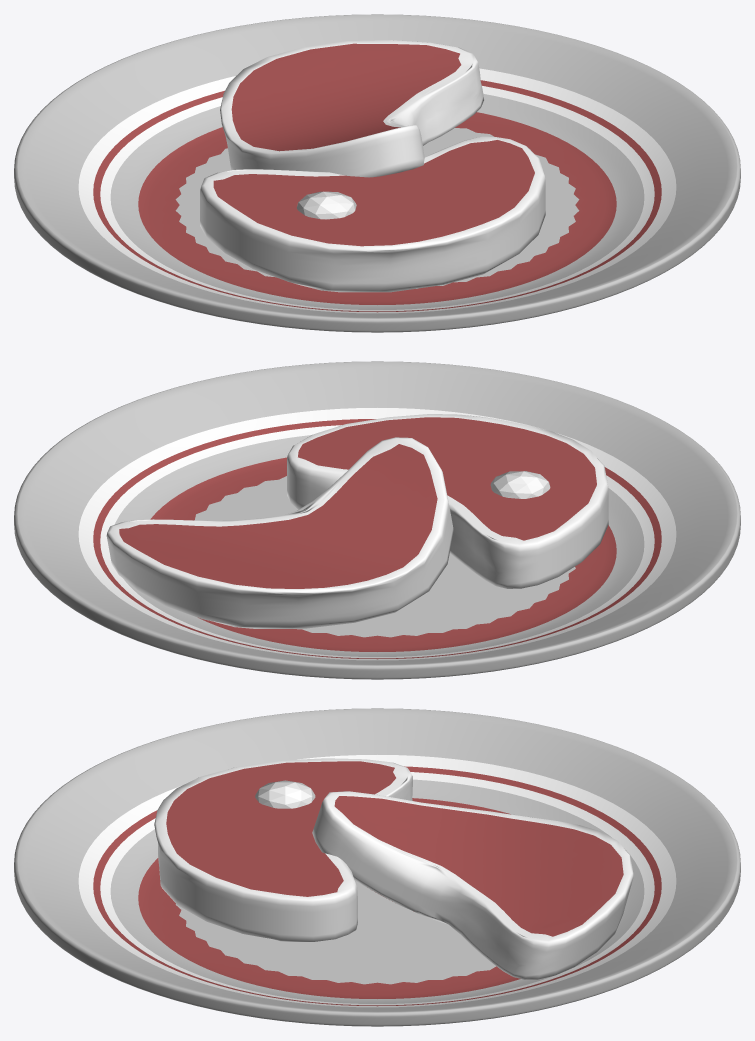
Rendered from Steak_245.gltf.
3 renders of one model, top to bottom at view 1: azimuth 30°, elevation 25°; view 2: azimuth 150°, elevation 25°; view 3: azimuth 270°, elevation 25°, orthographic.
Visible parts, largest first — view 1: node-0; view 2: node-0; view 3: node-0.
Part boxes in pixels (bbox=[...]): node-0: bbox=[14, 14, 740, 332]; node-0: bbox=[14, 361, 740, 679]; node-0: bbox=[14, 708, 740, 1026].
Size of the model in its own units: 83.5 by 13.99 by 83.5.
